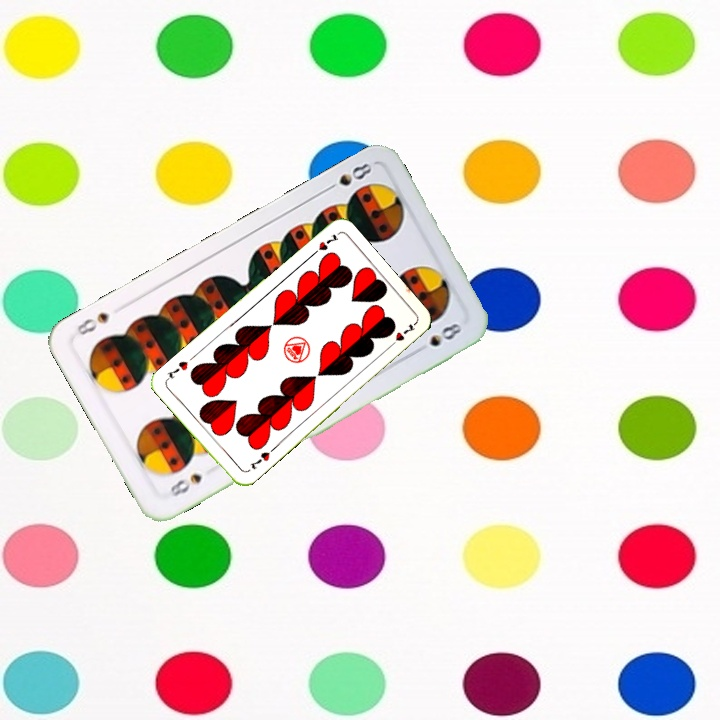H7: (306, 229, 341, 260), (245, 444, 277, 472)
S8: (321, 156, 375, 194), (166, 469, 205, 500)
